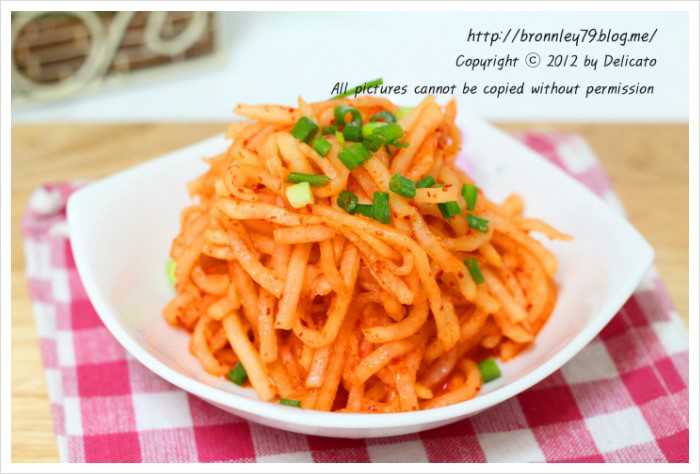musaengchae: (156, 81, 580, 413)
